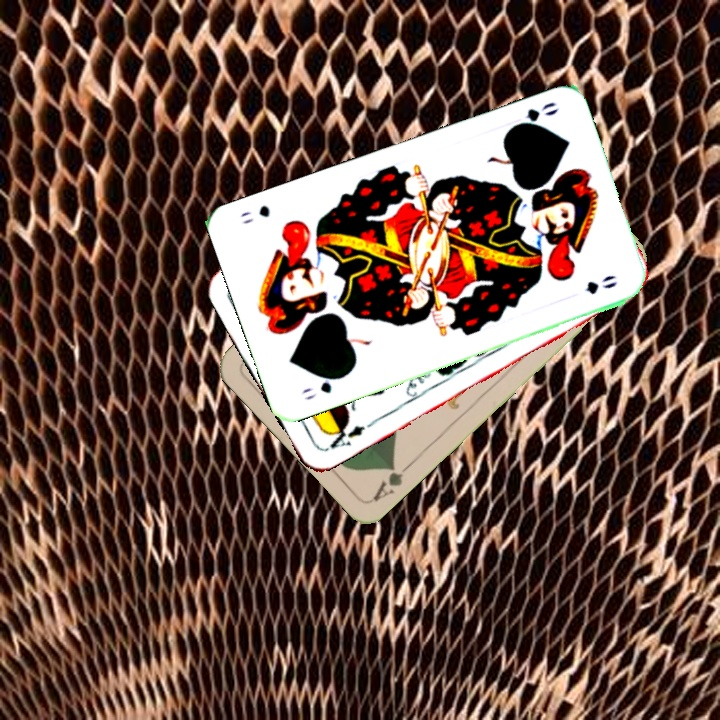EA: (321, 418, 376, 454)
GA: (368, 458, 416, 505)
GO: (506, 98, 561, 133), (297, 371, 348, 403)
